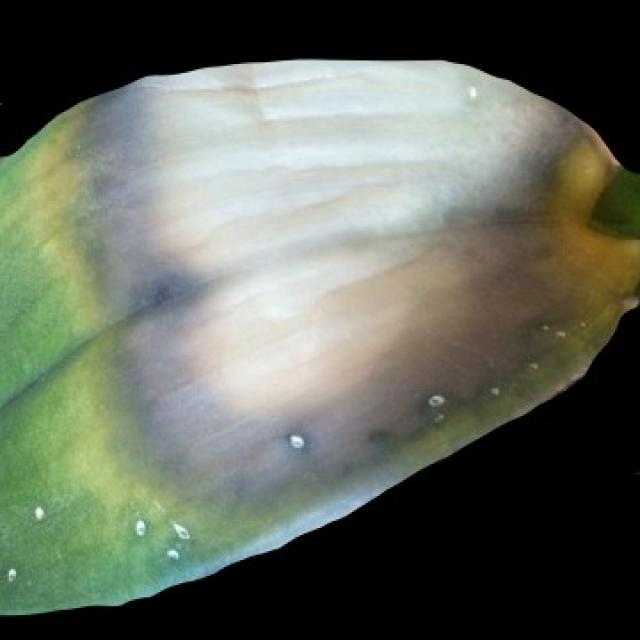mite: (0, 492, 197, 590), (276, 388, 453, 459), (0, 496, 50, 592), (126, 510, 194, 564), (274, 420, 318, 462), (414, 384, 453, 427), (164, 514, 196, 544), (281, 427, 311, 455), (25, 498, 52, 526), (126, 512, 151, 540), (158, 540, 183, 565), (0, 560, 23, 587), (364, 425, 389, 448), (482, 379, 505, 402), (169, 519, 190, 540), (286, 432, 306, 452), (132, 516, 148, 537), (425, 391, 446, 407), (30, 501, 46, 521), (4, 564, 18, 583), (164, 546, 180, 562), (524, 357, 540, 372), (487, 382, 501, 398), (631, 274, 638, 304), (0, 94, 5, 114)
